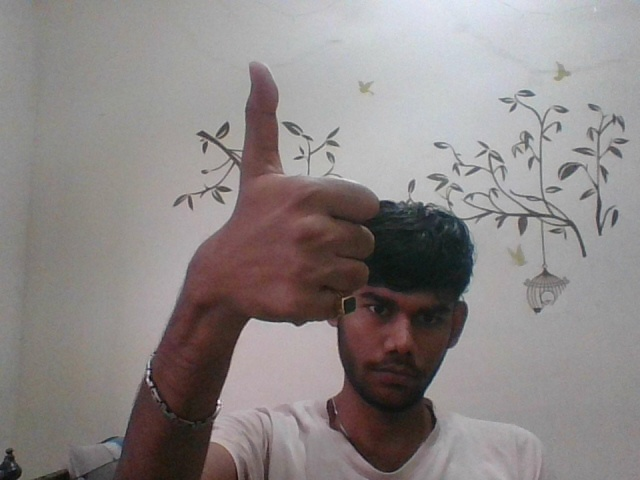Yes: (159, 44, 373, 333)
